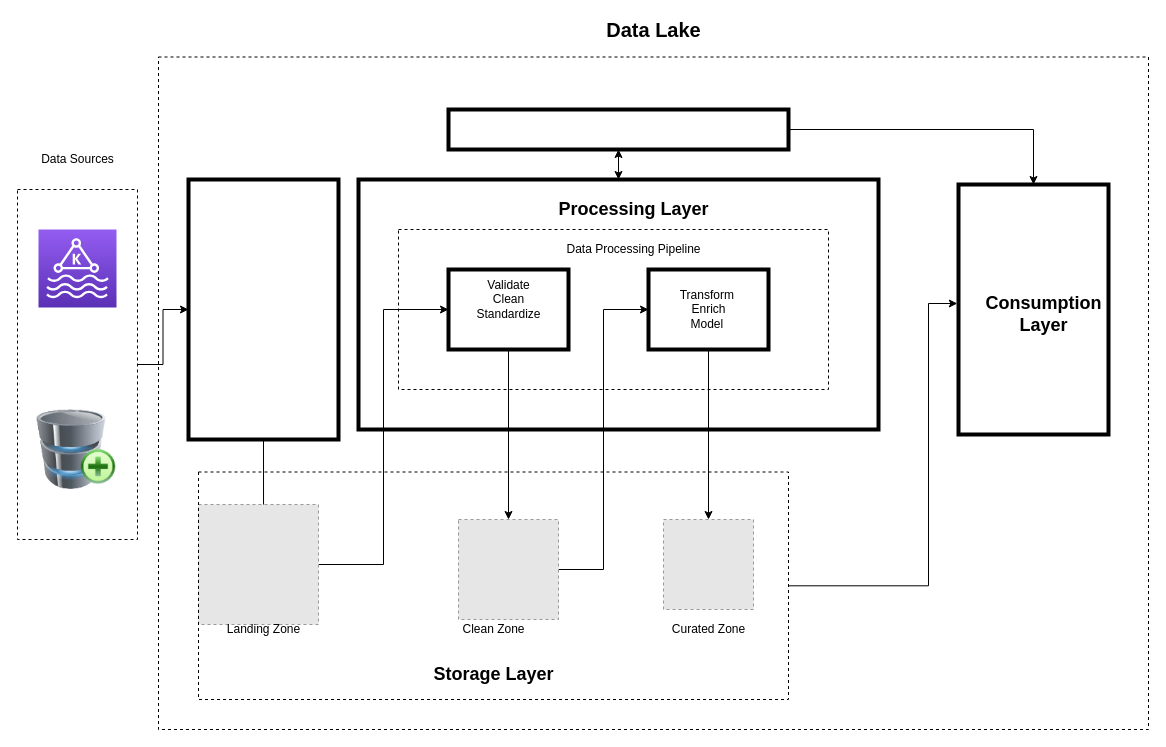
Image size: 1166x747. Some labels were removed from this diagram. Grey dashed boxes stand in for pictures. Here are the shapes that lost their labels. From the top down, the centre of each, then its label:
the point at 618,129: Cataloguing and Search Layer
the point at 263,309: Ingestion Layer
